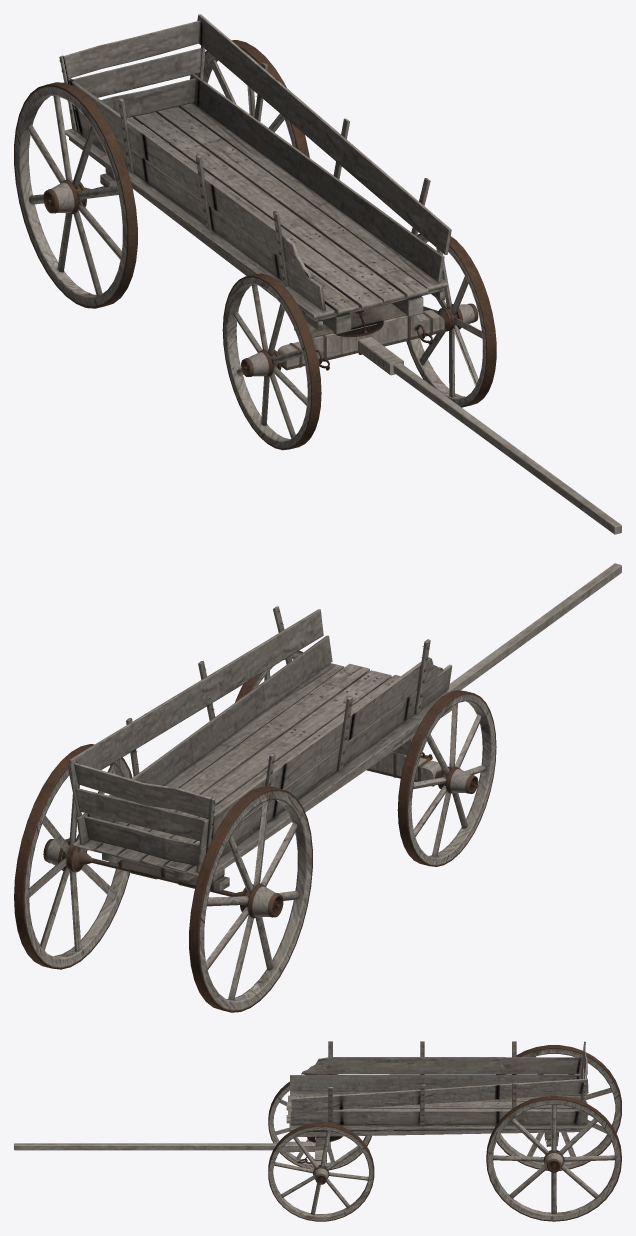
The model's file is farm-box-mid.glb.
The picture shows the model from 3 angles, top to bottom: view 1: azimuth 30°, elevation 25°; view 2: azimuth 150°, elevation 25°; view 3: azimuth 270°, elevation 25°; orthographic projection. The views are drawn at different scales.
Visible parts, largest first — view 1: CartBody_CartBase_0, wheel_rr_CartDetails_0, wheel_fr_CartDetails_0, wheel_fl_CartDetails_0, single_reconstructed_pole, CartSteer_CartBase_0, wheel_rl_CartDetails_0, central_drawbar_bearing, CartSteer_CartDetails_0, CartBody_CartDetails_0; view 2: CartBody_CartBase_0, wheel_rr_CartDetails_0, wheel_rl_CartDetails_0, wheel_fr_CartDetails_0, single_reconstructed_pole, CartSteer_CartBase_0, CartBody_CartDetails_0; view 3: CartBody_CartBase_0, wheel_rl_CartDetails_0, wheel_fl_CartDetails_0, wheel_rr_CartDetails_0, single_reconstructed_pole, wheel_fr_CartDetails_0, central_drawbar_bearing.
Boxes of the visible parts, <box> form: CartBody_CartBase_0: <box>59,14,451,337</box>; wheel_rr_CartDetails_0: <box>14,82,137,308</box>; wheel_fr_CartDetails_0: <box>222,273,321,450</box>; wheel_fl_CartDetails_0: <box>406,234,496,407</box>; single_reconstructed_pole: <box>393,363,621,534</box>; CartSteer_CartBase_0: <box>277,310,444,368</box>; wheel_rl_CartDetails_0: <box>190,40,309,157</box>; central_drawbar_bearing: <box>358,337,403,375</box>; CartSteer_CartDetails_0: <box>281,311,444,370</box>; CartBody_CartDetails_0: <box>59,59,425,336</box>; CartBody_CartBase_0: <box>67,606,452,891</box>; wheel_rr_CartDetails_0: <box>189,786,312,1012</box>; wheel_rl_CartDetails_0: <box>14,744,132,969</box>; wheel_fr_CartDetails_0: <box>397,690,496,866</box>; single_reconstructed_pole: <box>447,563,621,691</box>; CartSteer_CartBase_0: <box>368,752,441,781</box>; CartBody_CartDetails_0: <box>92,611,428,896</box>; CartBody_CartBase_0: <box>286,1041,588,1150</box>; wheel_rl_CartDetails_0: <box>486,1096,621,1221</box>; wheel_fl_CartDetails_0: <box>268,1122,374,1221</box>; wheel_rr_CartDetails_0: <box>496,1045,621,1170</box>; single_reconstructed_pole: <box>14,1143,276,1150</box>; wheel_fr_CartDetails_0: <box>268,1074,371,1170</box>; central_drawbar_bearing: <box>276,1141,330,1152</box>.
Size of the model in its own units: 1.6 by 1.5 by 6.14.
2 materials, 2 textured.
